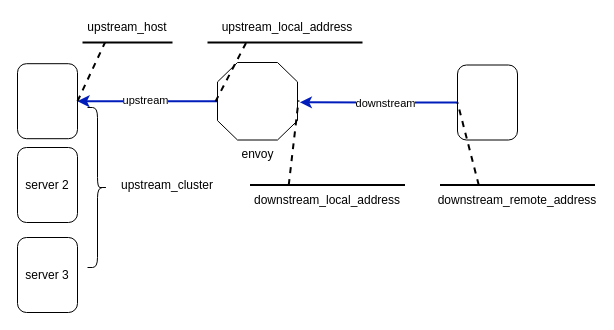
Image size: 614x330. Some labels were removed from this diagram. The shapes that lost their labels are listed below. From the top down, each one's centre as x and y in pixels, then its label:
(47,101): server 1
(487,102): client
